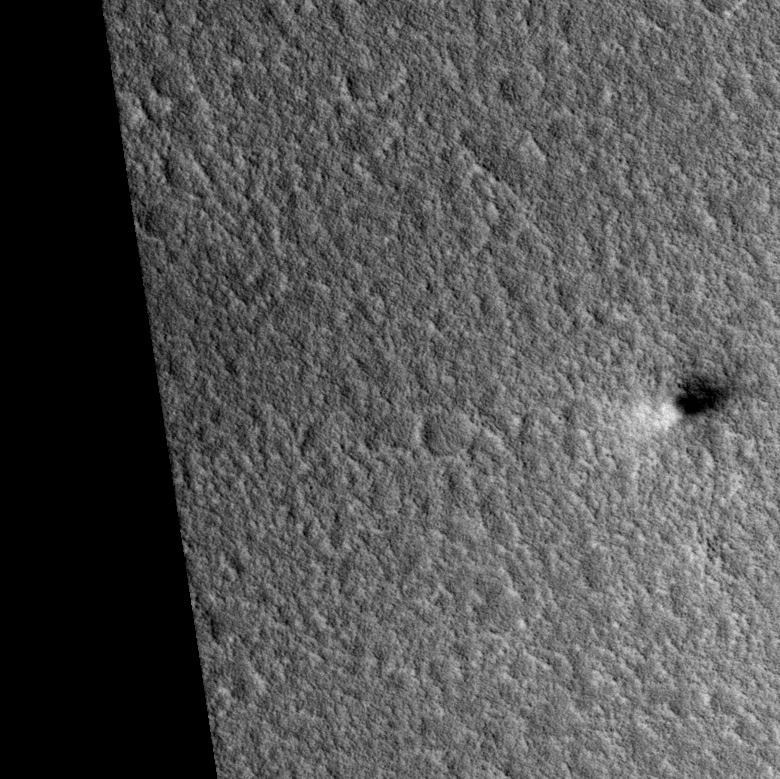dust_devil: (653, 371, 732, 432)
